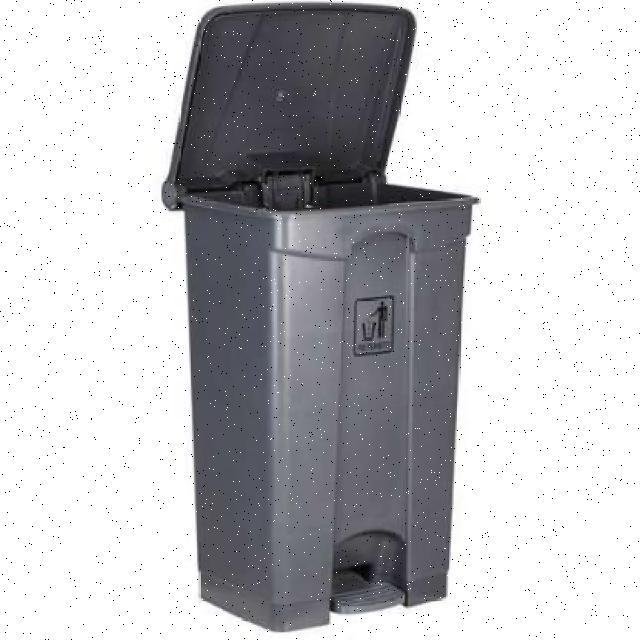garbage container: (150, 157, 527, 634)
